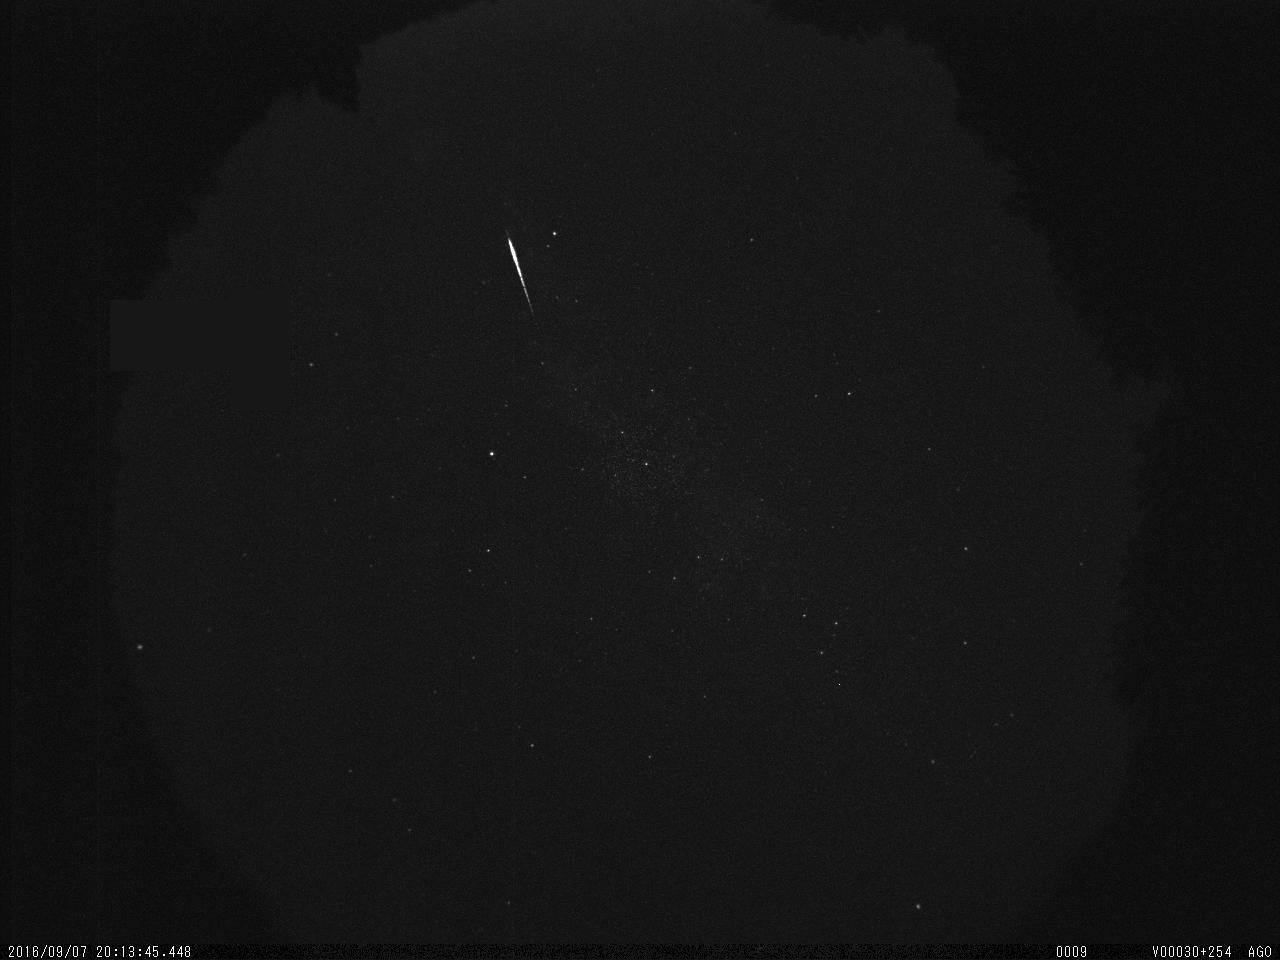meteor: (457, 217, 552, 324)
